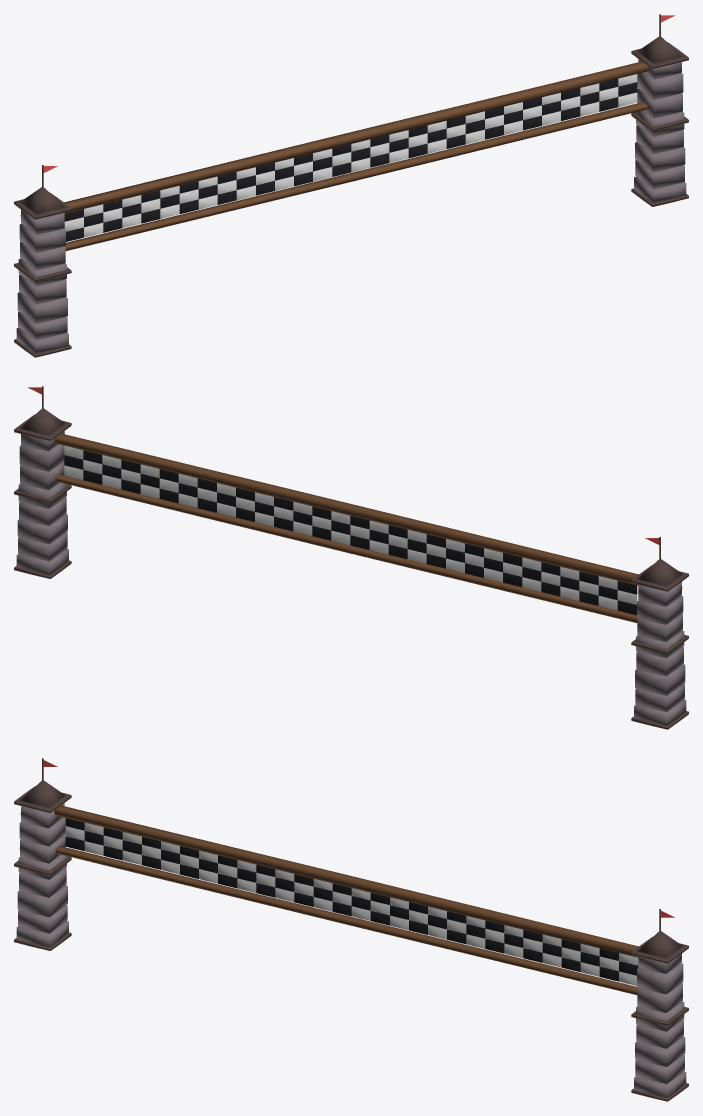
Rendered from SkateArch.obj.
The picture shows the model from 3 angles, top to bottom: view 1: azimuth 30°, elevation 25°; view 2: azimuth 150°, elevation 25°; view 3: azimuth 330°, elevation 25°; orthographic projection.
Parts seen in each view (by area): view 1: Beam, Stone, Light, Dark, Trim; view 2: Stone, Beam, Dark, Light, Trim; view 3: Beam, Stone, Dark, Light, Trim.
Part boxes in pixels (<box>): Beam: <box>64,61,648,250</box>; Stone: <box>16,59,686,353</box>; Light: <box>64,74,637,237</box>; Dark: <box>64,78,637,241</box>; Trim: <box>14,14,688,357</box>; Stone: <box>16,431,686,725</box>; Beam: <box>54,433,638,622</box>; Dark: <box>64,450,637,614</box>; Light: <box>64,445,637,610</box>; Trim: <box>14,386,688,729</box>; Beam: <box>54,805,638,994</box>; Stone: <box>16,803,686,1097</box>; Dark: <box>65,818,638,981</box>; Light: <box>65,822,638,985</box>; Trim: <box>14,758,688,1101</box>.
Bounding box in the file's own units: 117 × 30.8 × 6.6.
